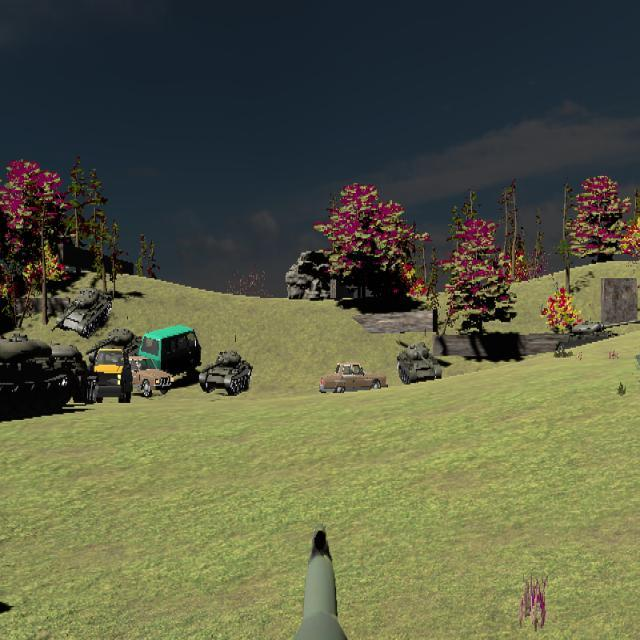Tank: (0, 335, 73, 422), (56, 288, 112, 338), (199, 349, 253, 396), (397, 341, 443, 385), (92, 327, 143, 366)
car: (138, 325, 202, 385), (319, 361, 387, 396), (119, 355, 172, 397), (94, 348, 132, 403)
